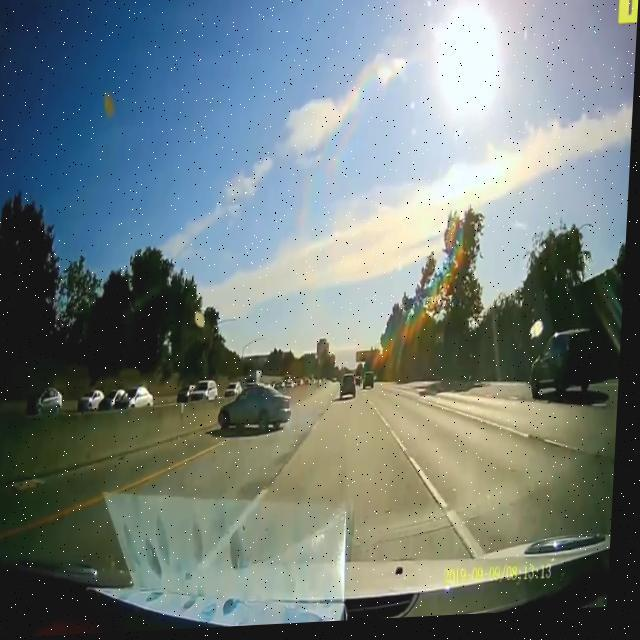single accident: (190, 372, 293, 442)
